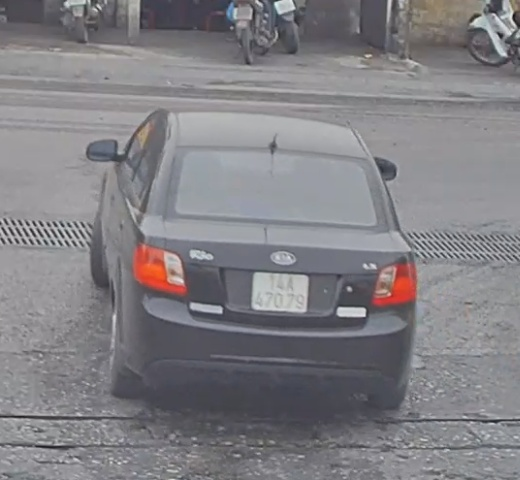vehicle plate: (246, 265, 307, 316)
